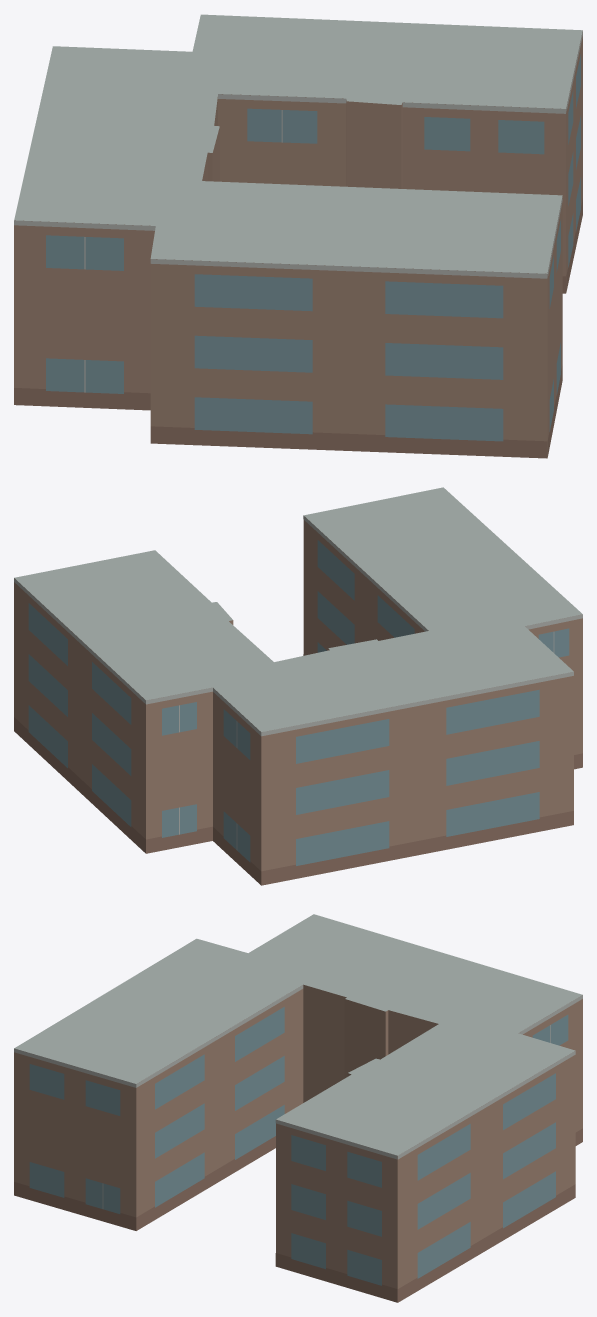
Rendered from survey-upis-32537715.glb.
The picture shows the model from 3 angles, top to bottom: view 1: azimuth 30°, elevation 25°; view 2: azimuth 150°, elevation 25°; view 3: azimuth 270°, elevation 25°; orthographic projection. The views are drawn at different scales.
Visible parts, largest first — view 1: survey-upis-32537715.tmp; view 2: survey-upis-32537715.tmp; view 3: survey-upis-32537715.tmp.
Boxes of the visible parts, left/top/right/bottom form: survey-upis-32537715.tmp: left=14, top=14, right=582, bottom=458; survey-upis-32537715.tmp: left=14, top=487, right=582, bottom=885; survey-upis-32537715.tmp: left=14, top=914, right=582, bottom=1302.
Size of the model in its own units: 32.24 by 9.15 by 32.08.
